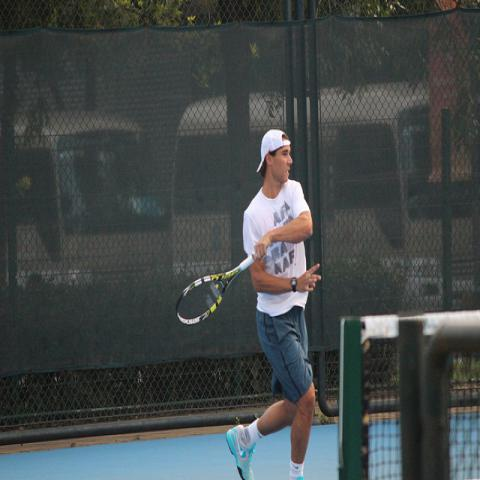bus: (172, 84, 444, 316), (6, 107, 174, 280)
